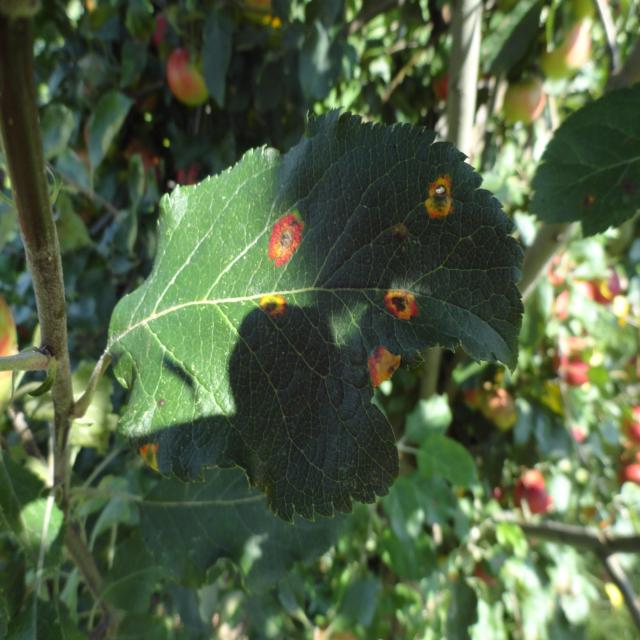Rust: (417, 172, 464, 242), (243, 274, 296, 334), (267, 200, 304, 282), (362, 341, 409, 394), (382, 287, 428, 332)
